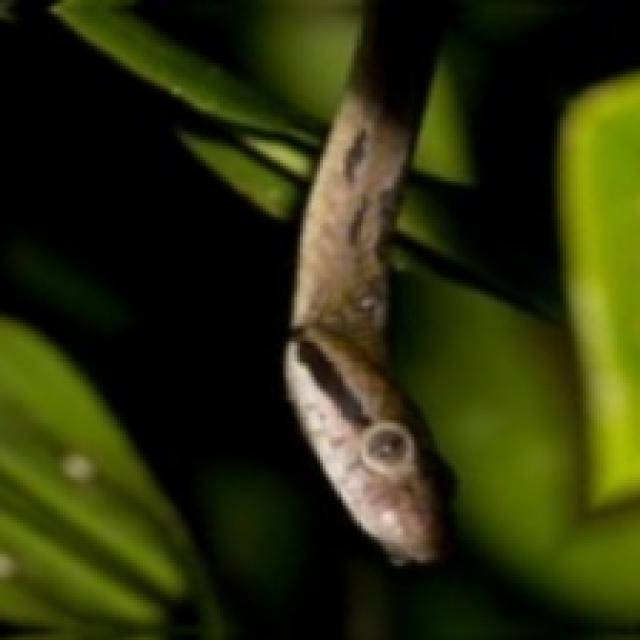dog-toothed cat snake: (286, 0, 451, 563)
